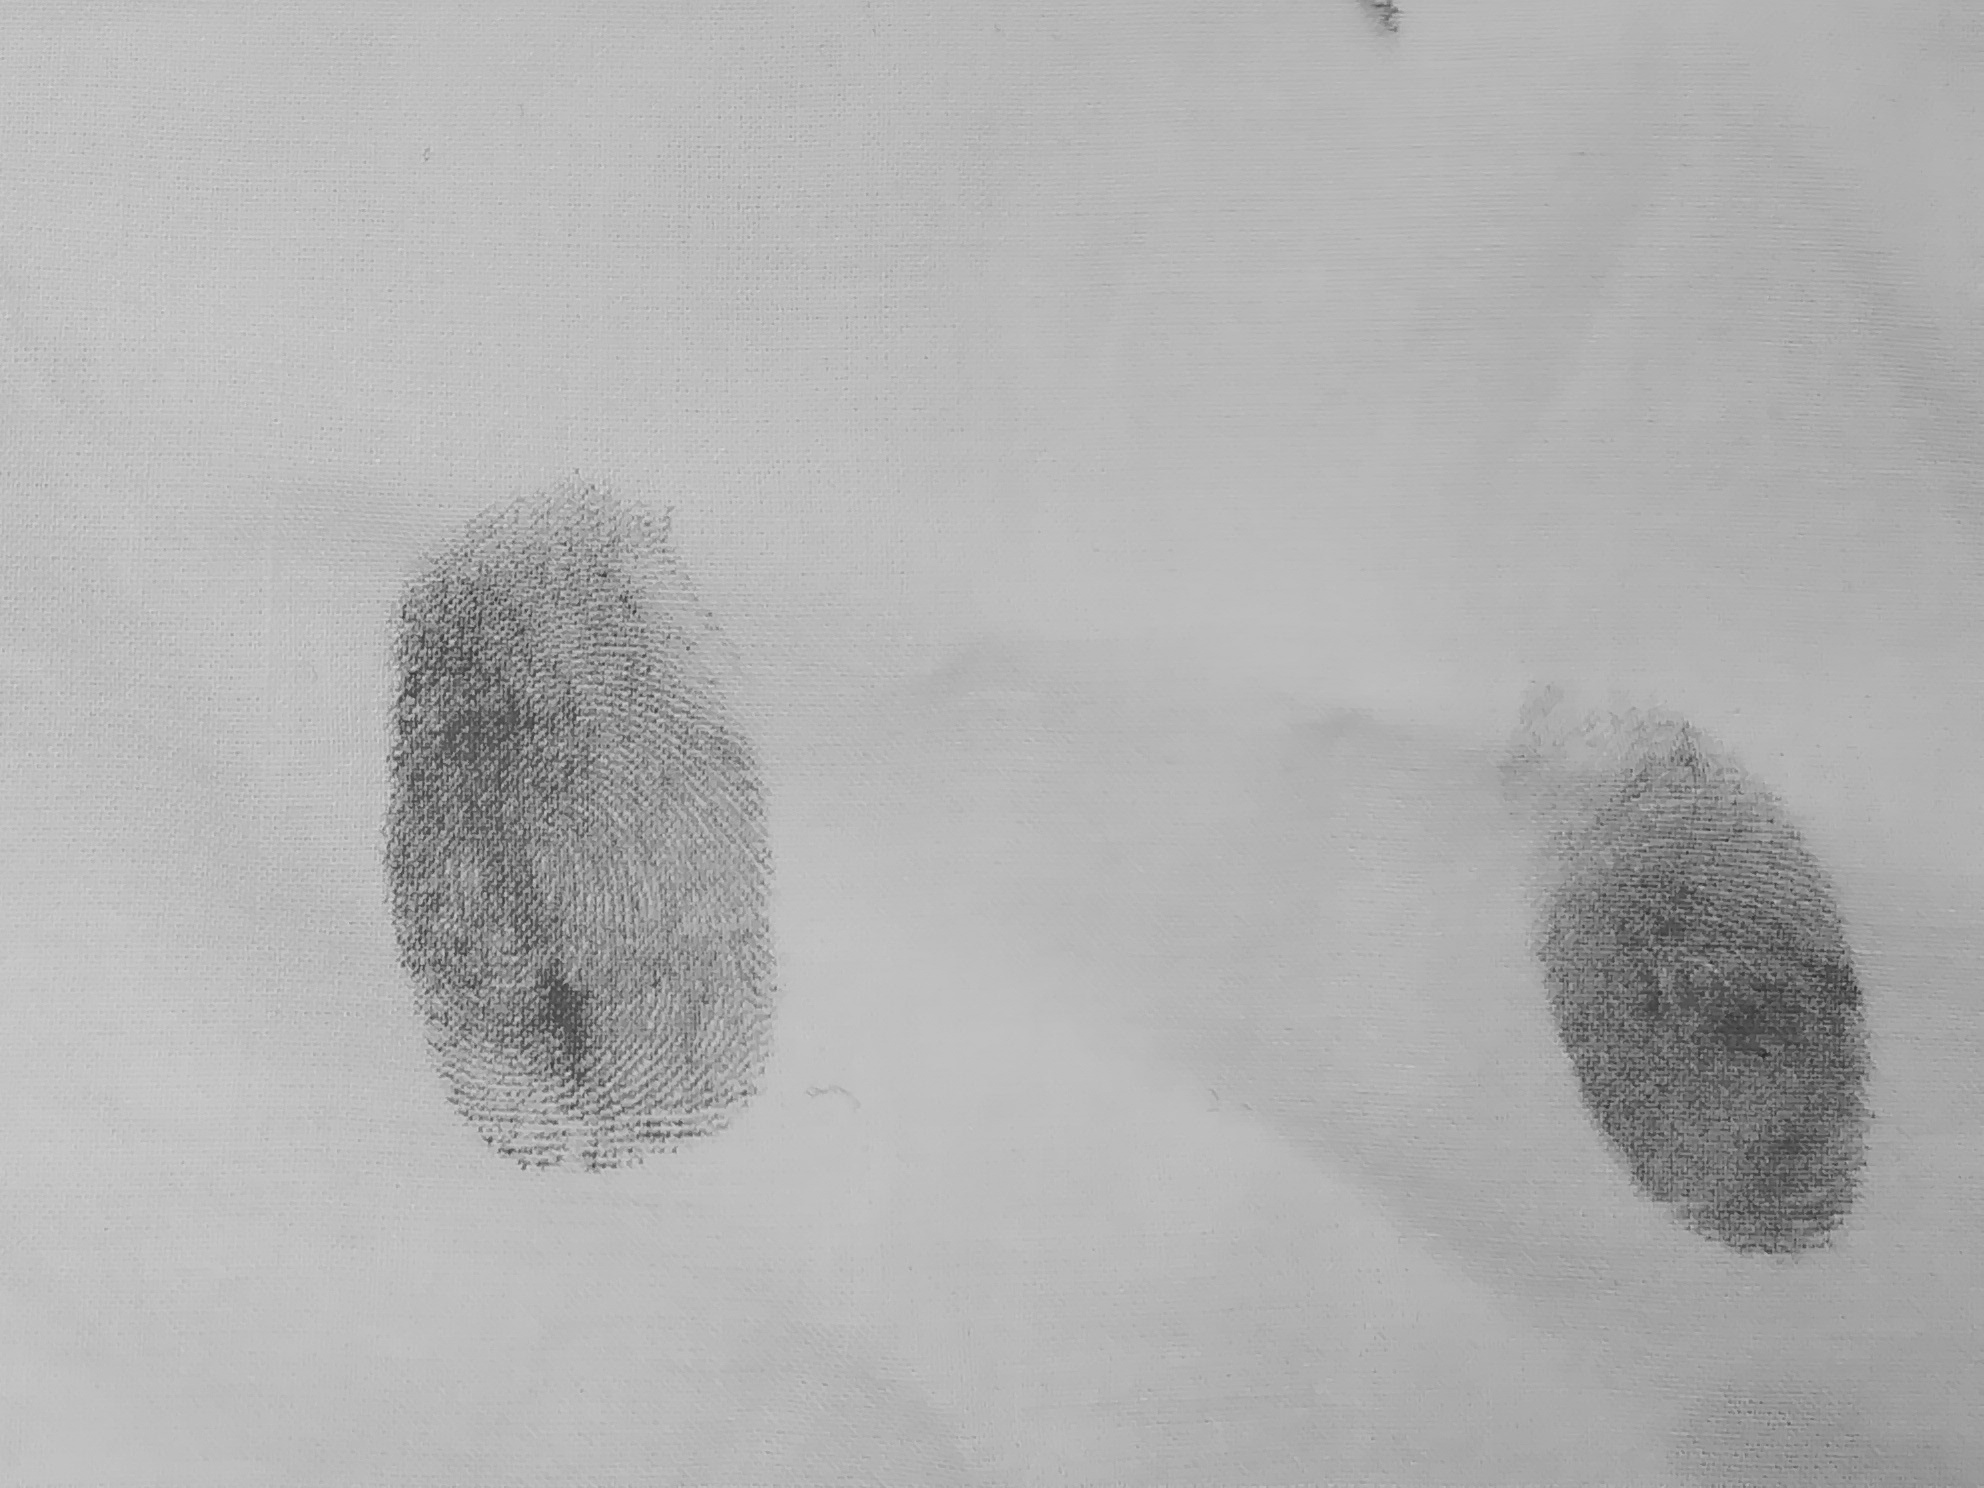Stain: (167, 392, 969, 1252), (1383, 567, 1976, 1330)
